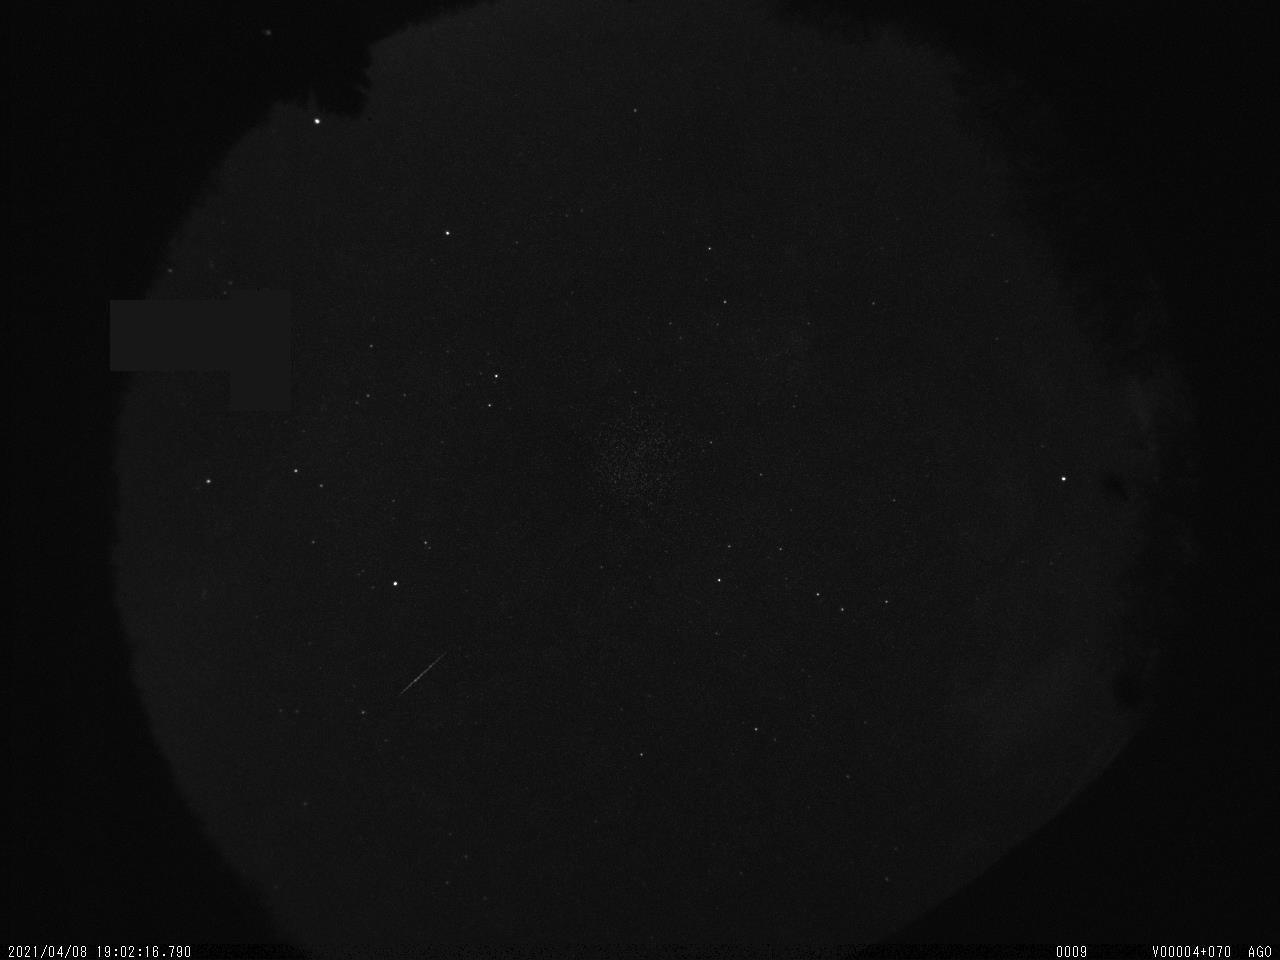meteor: (354, 620, 476, 712)
